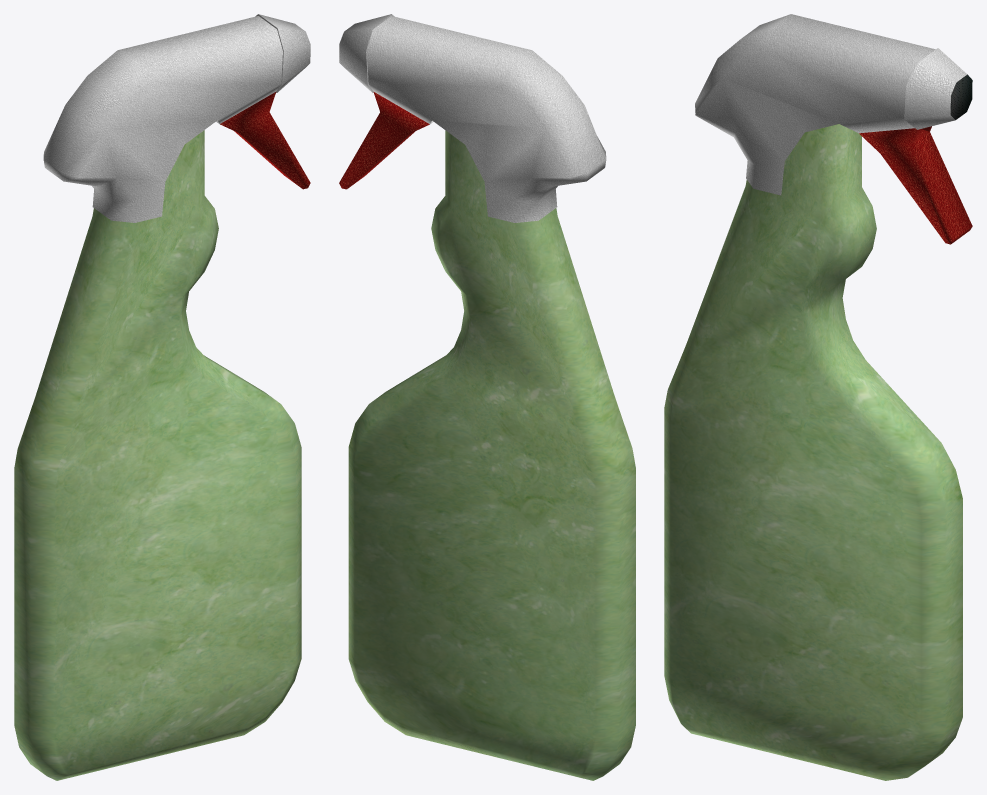
File: cleaningSolution.gltf
3 views of the same model, side by side, from view 1: azimuth 30°, elevation 25°; view 2: azimuth 150°, elevation 25°; view 3: azimuth 330°, elevation 25° (orthographic). The views are drawn at different scales.
Parts seen in each view (by area): view 1: body, cap; view 2: body, cap; view 3: body, cap.
Part boxes in pixels (x1,y1,x2,y2): body: [14, 130, 301, 780]; cap: [43, 14, 310, 222]; body: [348, 130, 635, 780]; cap: [339, 14, 606, 222]; body: [664, 124, 962, 780]; cap: [695, 14, 972, 244].
Size of the model in its own units: 0.1912 by 0.4585 by 0.0441.
